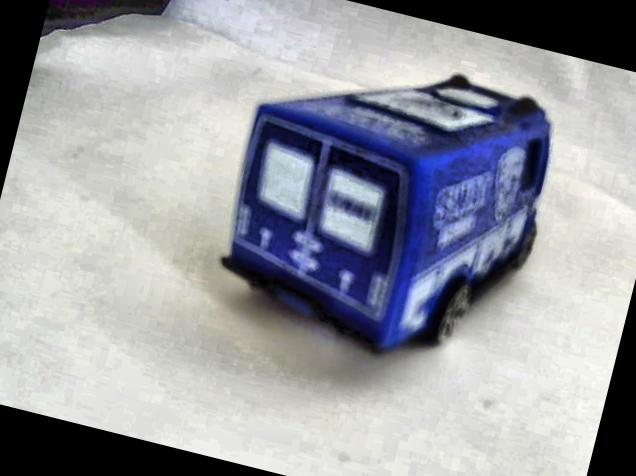police car: (202, 19, 573, 387)
